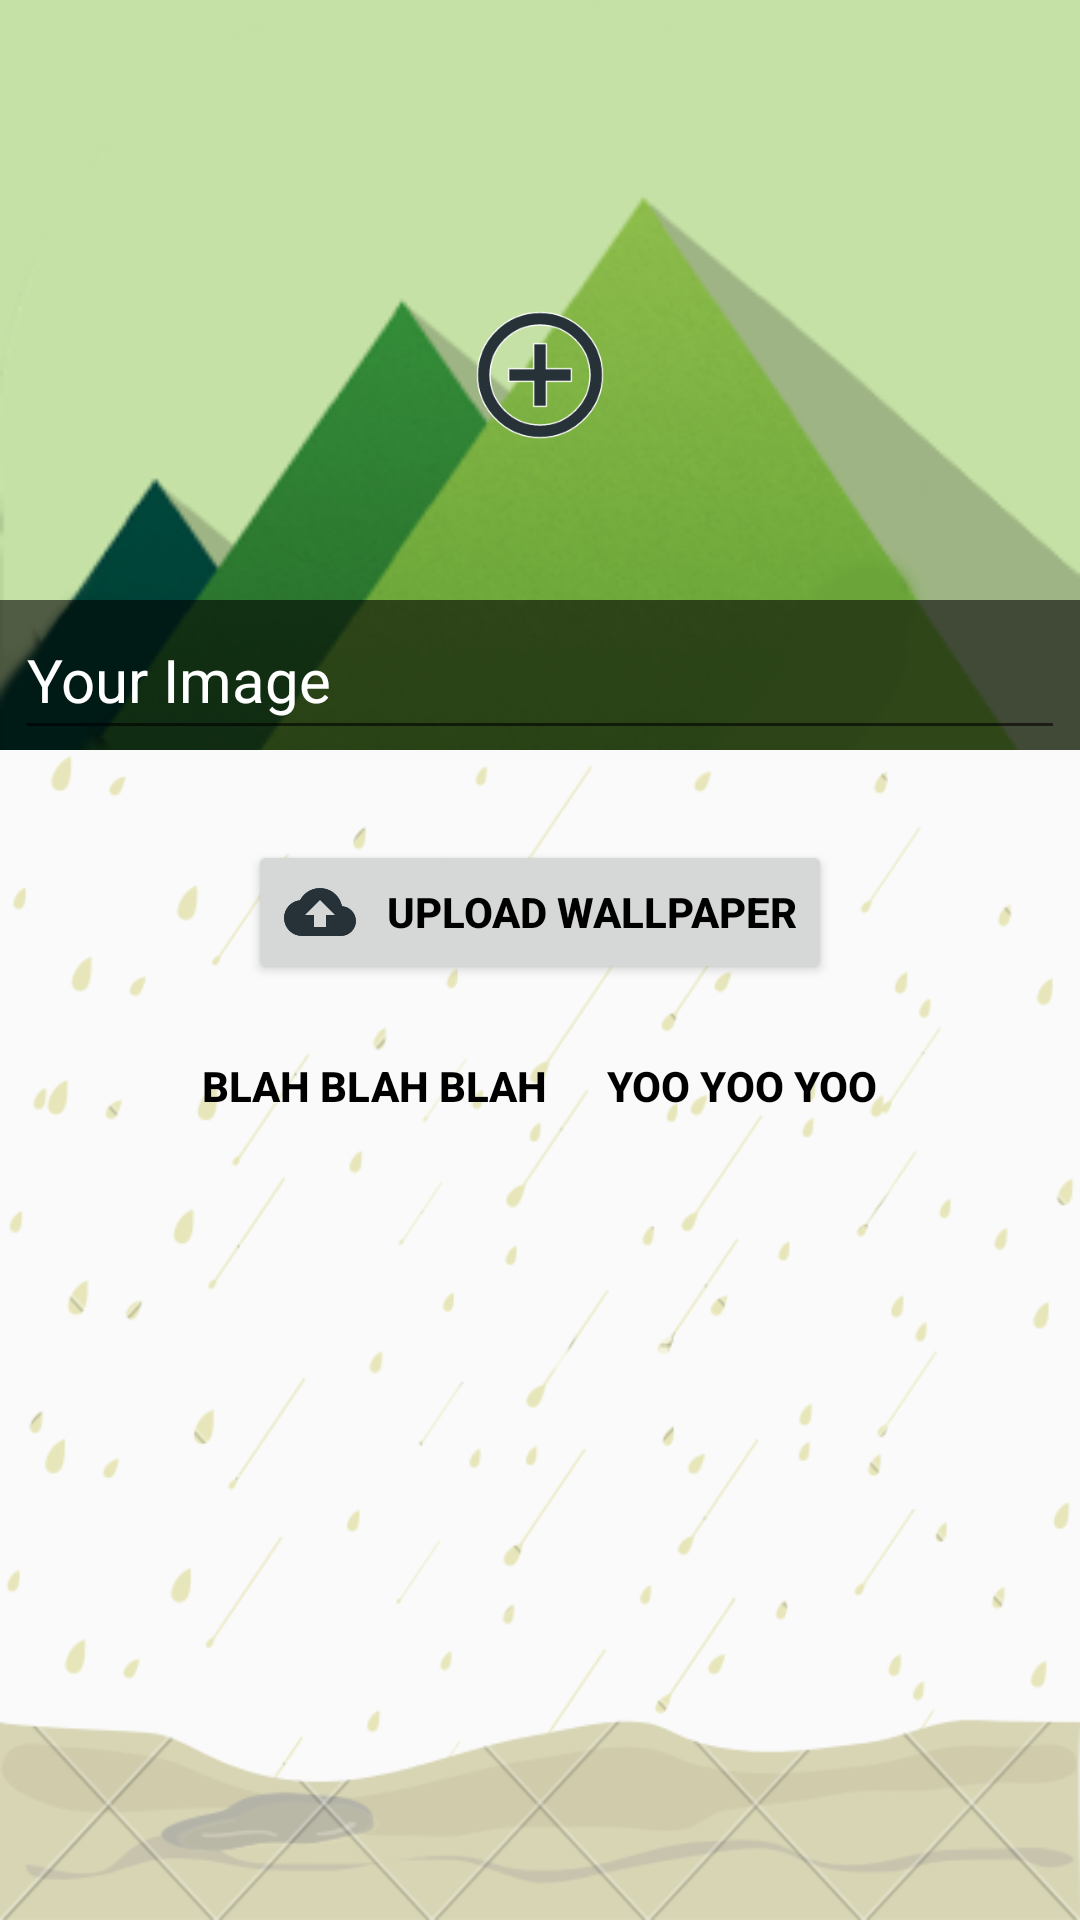

Icons on this 1080w x 1920h Android screen, each with the point to tap as (x=x, y=y):
add circle: (x=540, y=375)
